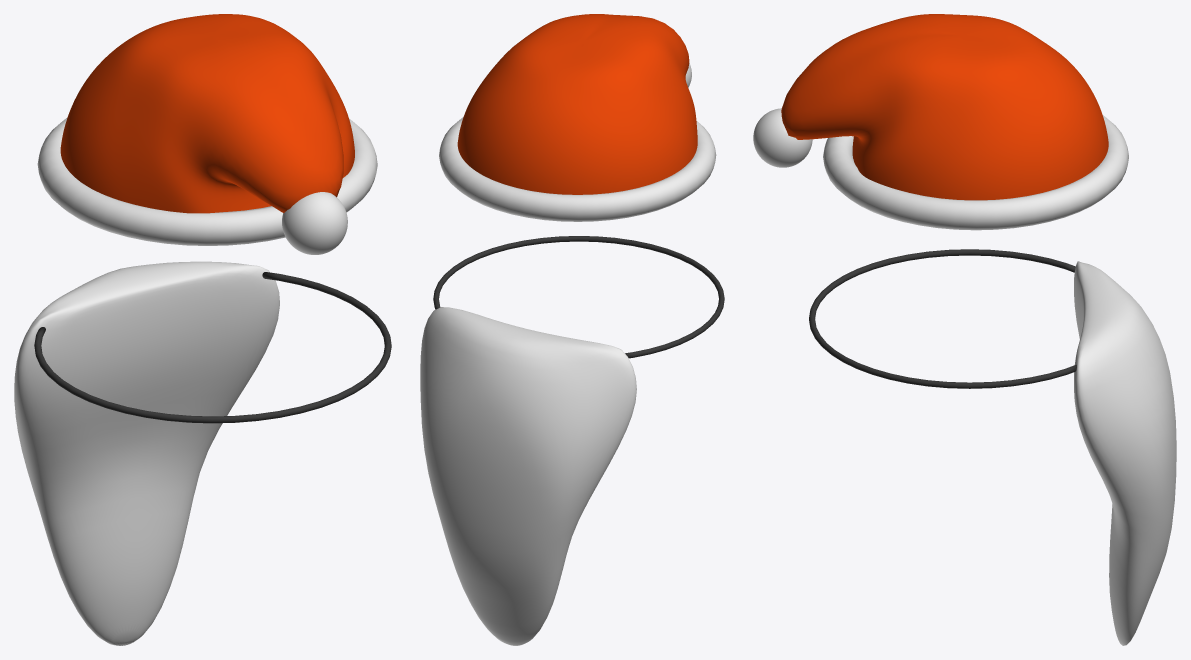
File: boroda.fbx
The picture shows the model from 3 angles, left to right: view 1: azimuth 30°, elevation 25°; view 2: azimuth 150°, elevation 25°; view 3: azimuth 270°, elevation 25°; orthographic projection. The views are drawn at different scales.
Parts seen in each view (by area): view 1: boroda_Deda, Shapka_Deda; view 2: boroda_Deda, Shapka_Deda; view 3: Shapka_Deda, boroda_Deda.
Part boxes in pixels (left/top/right/bottom): boroda_Deda: left=14, top=261, right=391, bottom=645; Shapka_Deda: left=37, top=14, right=377, bottom=254; boroda_Deda: left=420, top=236, right=724, bottom=645; Shapka_Deda: left=439, top=14, right=716, bottom=221; Shapka_Deda: left=753, top=14, right=1128, bottom=230; boroda_Deda: left=809, top=249, right=1176, bottom=645.
Size of the model in its own units: 241 by 505 by 317.
